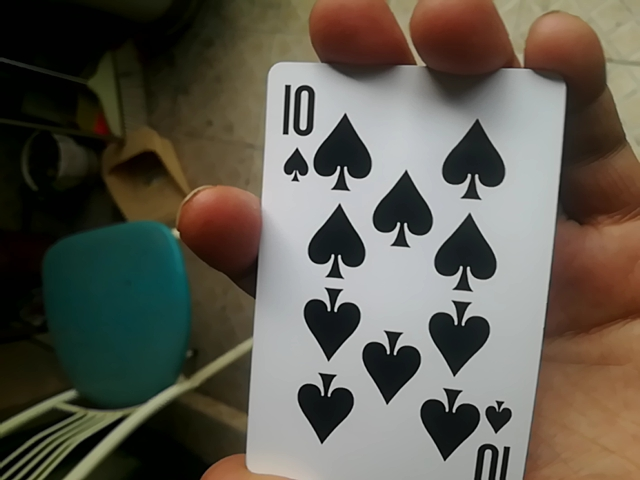ht 10: (240, 51, 560, 480)
